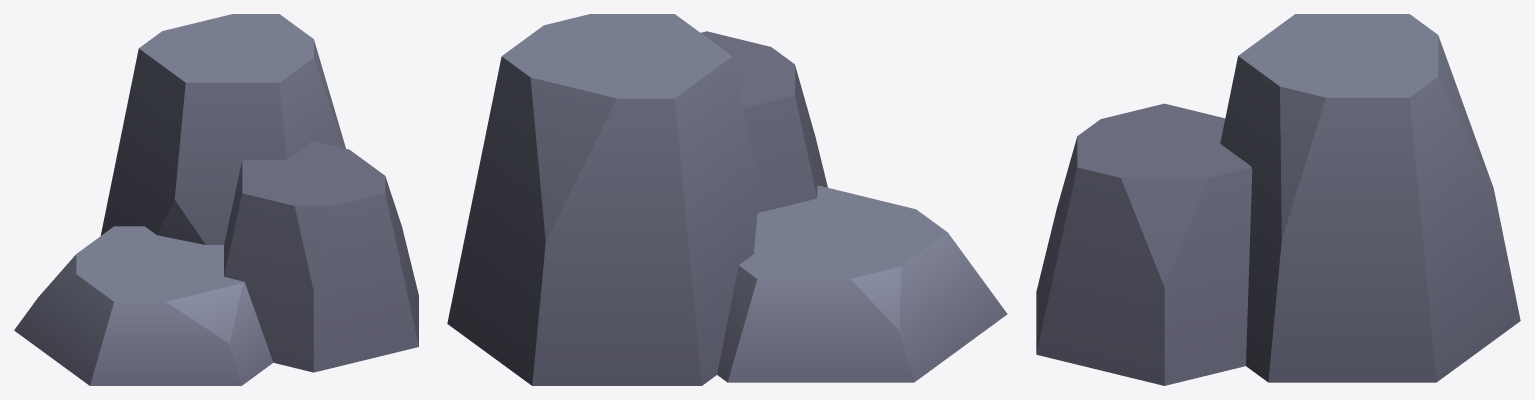
Rendered from rocks.fbx.
3 renders of one model, left to right at view 1: azimuth 30°, elevation 25°; view 2: azimuth 150°, elevation 25°; view 3: azimuth 270°, elevation 25°, orthographic. The views are drawn at different scales.
Parts seen in each view (by area): view 1: rocks; view 2: rocks; view 3: rocks.
Boxes of the visible parts, x1,y1,x2,y2 form: rocks: [14, 14, 418, 385]; rocks: [447, 14, 1007, 385]; rocks: [1036, 14, 1520, 385].
Size of the model in its own units: 65.31 by 40 by 66.23.
